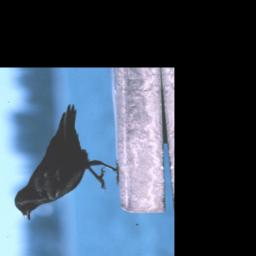Crow: (5, 101, 124, 222)
